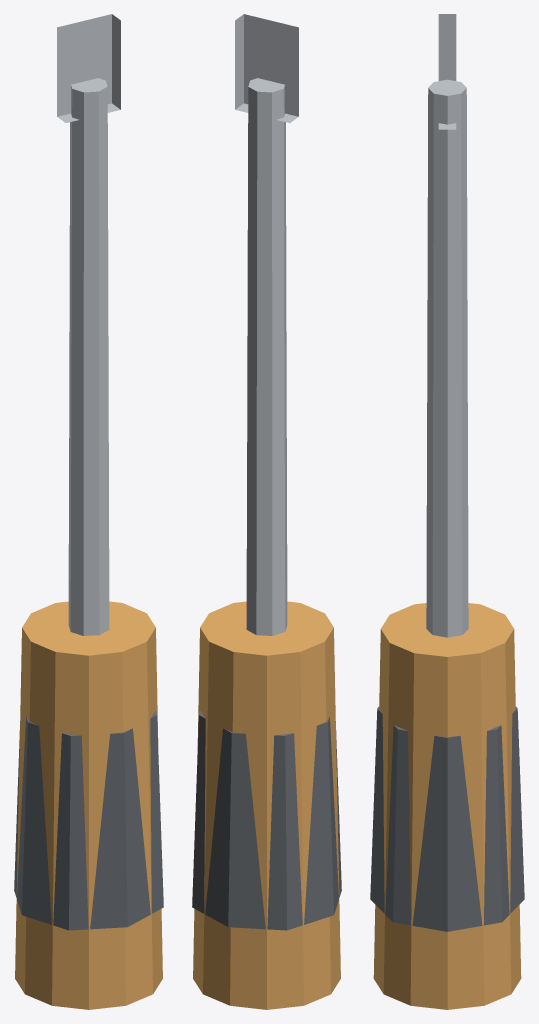
Rendered from screwdriver_driver.glb.
3 views of the same model, side by side, from view 1: azimuth 30°, elevation 25°; view 2: azimuth 150°, elevation 25°; view 3: azimuth 270°, elevation 25° (orthographic).
Visible parts, largest first — view 1: HousingAccent, MetalBody, ErgonomicGrip; view 2: HousingAccent, MetalBody, ErgonomicGrip; view 3: HousingAccent, MetalBody, ErgonomicGrip.
Part boxes in pixels (box(x1,y1,x2,y2)): HousingAccent: box(15, 601, 162, 1009); MetalBody: box(57, 14, 120, 635); ErgonomicGrip: box(14, 711, 163, 930); HousingAccent: box(193, 601, 340, 1009); MetalBody: box(235, 14, 298, 635); ErgonomicGrip: box(192, 711, 341, 930); HousingAccent: box(373, 603, 521, 1009); MetalBody: box(426, 14, 468, 637); ErgonomicGrip: box(370, 706, 524, 931).
Size of the model in its own units: 0.088 by 0.598 by 0.088.
